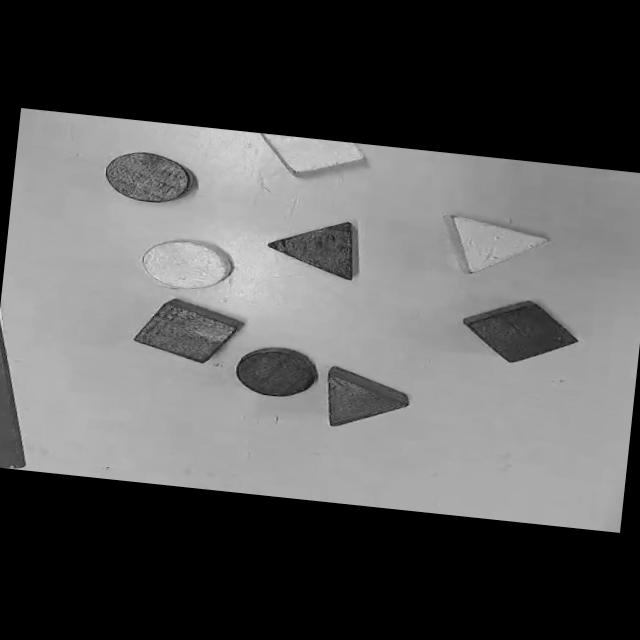bcircle: (138, 235, 234, 293), (232, 342, 318, 398)
bcube: (458, 294, 578, 368)
btriangle: (264, 213, 359, 280)
rcircle: (102, 147, 195, 205)
rcube: (130, 294, 244, 366)
rtriangle: (322, 366, 412, 434)
ycube: (262, 134, 364, 175)
ytriangle: (438, 213, 548, 281)
